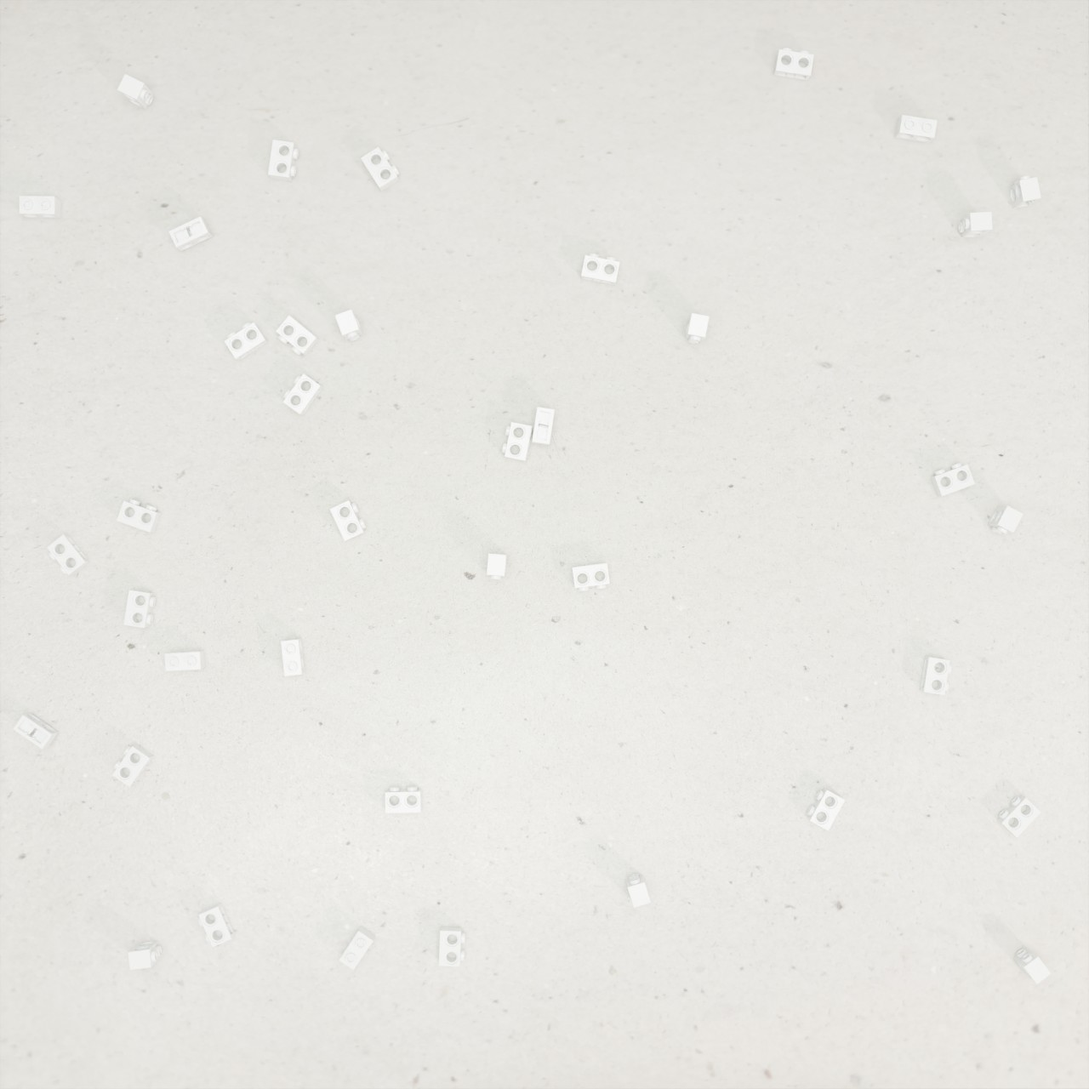lego: (997, 795, 1041, 838), (112, 744, 154, 787), (276, 315, 319, 356), (47, 534, 90, 575), (283, 373, 323, 416), (224, 322, 268, 361), (807, 787, 846, 831), (361, 147, 399, 192), (13, 712, 59, 749), (198, 902, 235, 947), (339, 926, 375, 970), (168, 216, 213, 251), (930, 462, 975, 497), (329, 500, 367, 541), (117, 499, 161, 533), (1013, 947, 1051, 984), (773, 48, 814, 81), (268, 140, 299, 182), (581, 253, 620, 286), (919, 656, 952, 695), (123, 589, 156, 628), (117, 74, 153, 109), (502, 422, 532, 462), (895, 115, 937, 143), (1009, 175, 1041, 209), (439, 926, 465, 967), (572, 563, 610, 591), (987, 506, 1023, 535), (385, 786, 422, 814), (128, 940, 162, 970), (19, 196, 61, 218), (281, 638, 305, 676), (958, 212, 993, 238), (532, 407, 555, 446), (335, 309, 363, 341), (626, 873, 651, 908), (164, 650, 205, 671), (684, 313, 709, 344), (487, 553, 507, 580)
